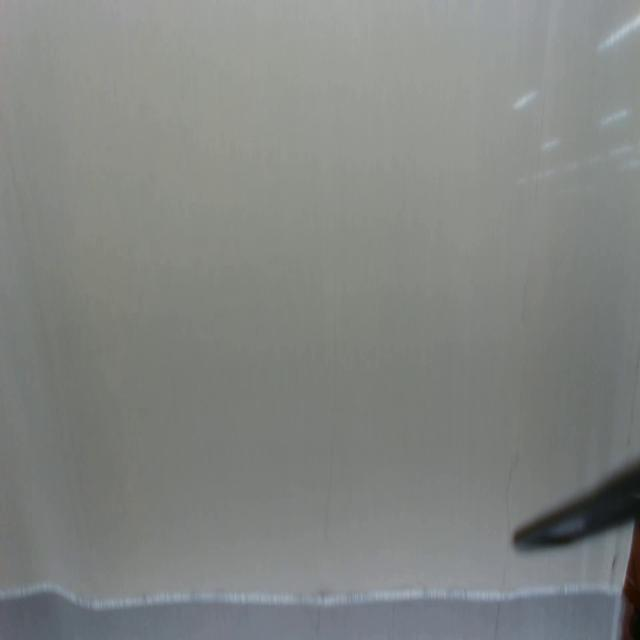crease: (490, 449, 518, 640), (322, 444, 338, 552)
